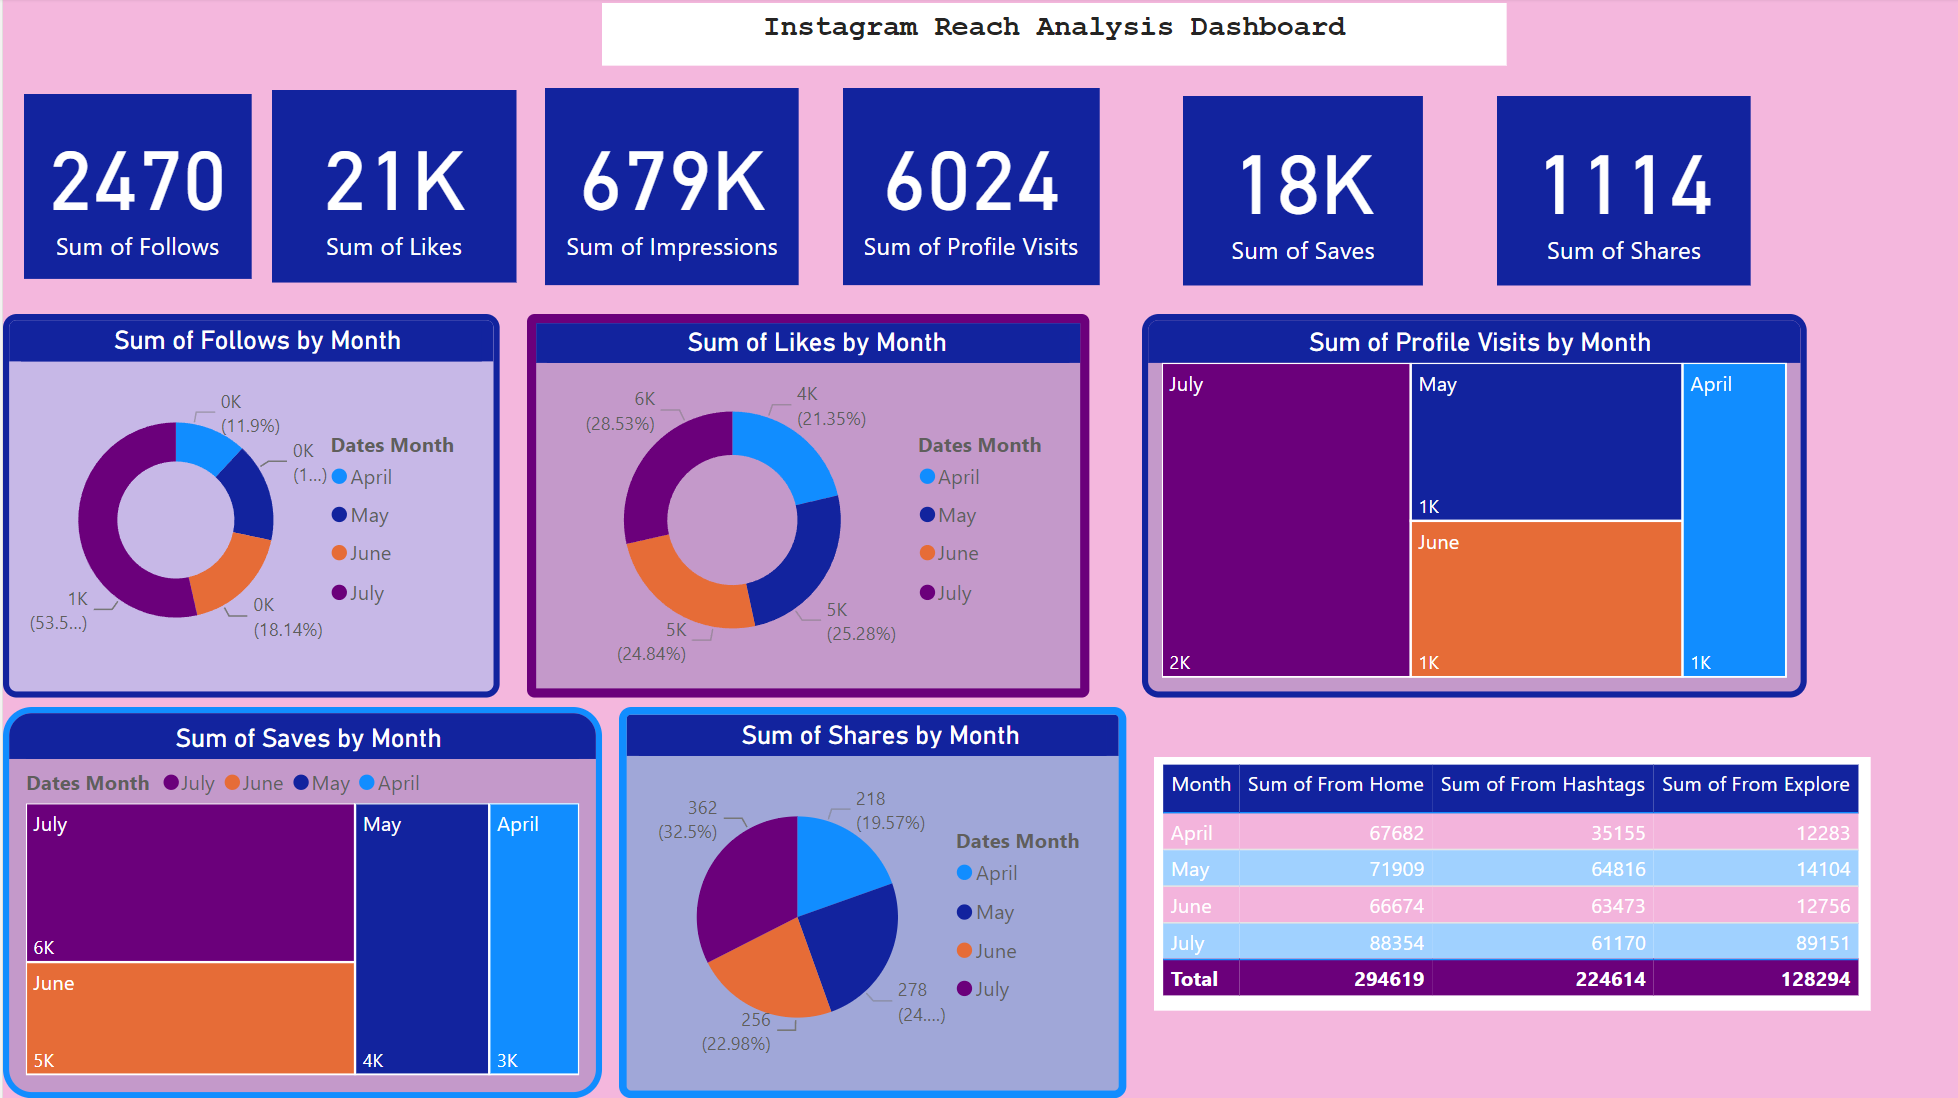

Layout of this report page (visuals, bound fields, positions):
{"tool":"powerbi","page":{"name":"Instagram reach analysis dashboard","canvas":[1280,720],"ordinal":0},"visuals":[{"type":"textbox","box":[392,3.3,591.6,40.6],"z":2},{"type":"card","fields":{"Values":["Sum(Instagram_data.Follows)"]},"box":[13.7,62.8,148.5,121.1],"z":3},{"type":"card","fields":{"Values":["Sum(Instagram_data.Profile Visits)"]},"box":[549.7,58.9,167.5,128.9],"z":4},{"type":"card","fields":{"Values":["Sum(Instagram_data.Impressions)"]},"box":[354.7,58.9,166.2,128.9],"z":5},{"type":"card","fields":{"Values":["Sum(Instagram_data.Likes)"]},"box":[176,60.2,159.7,126.3],"z":6},{"type":"card","fields":{"Values":["Sum(Instagram_data.Shares)"]},"box":[977.7,64.1,166.2,123.7],"z":7},{"type":"card","fields":{"Values":["Sum(Instagram_data.Saves)"]},"box":[772.2,64.1,157.1,123.7],"z":8},{"type":"donutChart","fields":{"Y":["Sum(Instagram_data.Follows)"],"Category":["Instagram_data.Dates.Variation.Date Hierarchy.Month"]},"box":[0,206.8,325.2,250.6],"z":9},{"type":"donutChart","fields":{"Category":["Instagram_data.Dates.Variation.Date Hierarchy.Month"],"Y":["Sum(Instagram_data.Likes)"]},"box":[342.9,206.8,367.8,250.6],"z":10},{"type":"treemap","fields":{"Group":["Instagram_data.Dates.Variation.Date Hierarchy.Month"],"Values":["Sum(Instagram_data.Saves)"]},"box":[0,464,392,255.9],"z":11},{"type":"treemap","fields":{"Group":["Instagram_data.Dates.Variation.Date Hierarchy.Month"],"Values":["Sum(Instagram_data.Profile Visits)"]},"box":[745.4,206.8,434.5,250.6],"z":12},{"type":"pieChart","fields":{"Y":["Sum(Instagram_data.Shares)"],"Category":["Instagram_data.Dates.Variation.Date Hierarchy.Month"]},"box":[403.1,464,332.4,255.9],"z":13},{"type":"tableEx","fields":{"Values":["Instagram_data.Dates.Variation.Date Hierarchy.Month","Sum(Instagram_data.From Home)","Sum(Instagram_data.From Hashtags)","Sum(Instagram_data.From Explore)"]},"box":[753.2,496.7,469.2,165.6],"z":14}]}

Visuals, with their boxes in screenshot pixels (x1, y1, x2, y2), scaled from the page's 1280x720 canvas onto the 1958x1098 screenshot:
textbox: l=600, t=5, r=1505, b=67
card - Sum(Instagram_data.Follows): l=21, t=96, r=248, b=280
card - Sum(Instagram_data.Profile Visits): l=841, t=90, r=1097, b=286
card - Sum(Instagram_data.Impressions): l=543, t=90, r=797, b=286
card - Sum(Instagram_data.Likes): l=269, t=92, r=514, b=284
card - Sum(Instagram_data.Shares): l=1496, t=98, r=1750, b=286
card - Sum(Instagram_data.Saves): l=1181, t=98, r=1422, b=286
donutChart - Sum(Instagram_data.Follows) x Instagram_data.Dates.Variation.Date Hierarchy.Month: l=0, t=315, r=497, b=698
donutChart - Instagram_data.Dates.Variation.Date Hierarchy.Month x Sum(Instagram_data.Likes): l=525, t=315, r=1087, b=698
treemap - Instagram_data.Dates.Variation.Date Hierarchy.Month x Sum(Instagram_data.Saves): l=0, t=708, r=600, b=1097
treemap - Instagram_data.Dates.Variation.Date Hierarchy.Month x Sum(Instagram_data.Profile Visits): l=1140, t=315, r=1805, b=698
pieChart - Sum(Instagram_data.Shares) x Instagram_data.Dates.Variation.Date Hierarchy.Month: l=617, t=708, r=1125, b=1097
tableEx - Instagram_data.Dates.Variation.Date Hierarchy.Month x Sum(Instagram_data.From Home): l=1152, t=757, r=1870, b=1010
